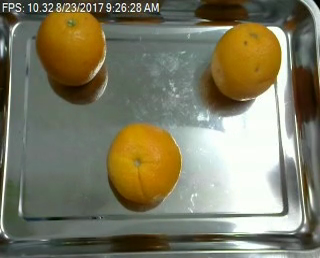Orange: (106, 123, 181, 203), (36, 7, 107, 85), (210, 22, 281, 100)
